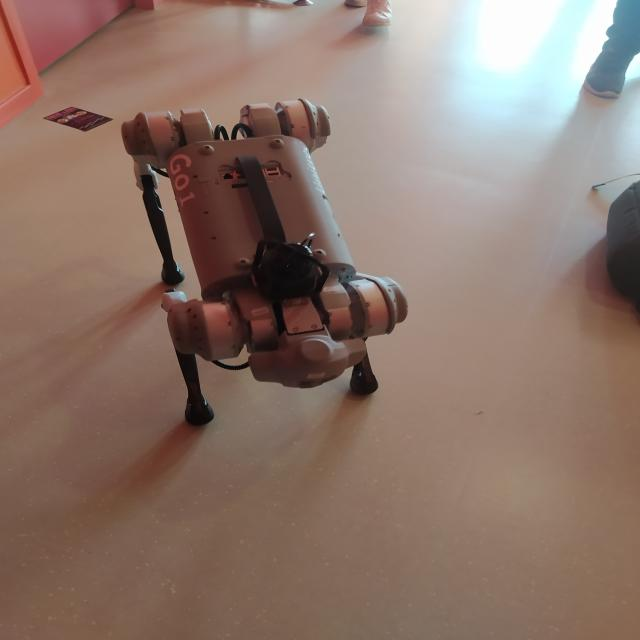unitree-go1-robot: (112, 96, 411, 439)
